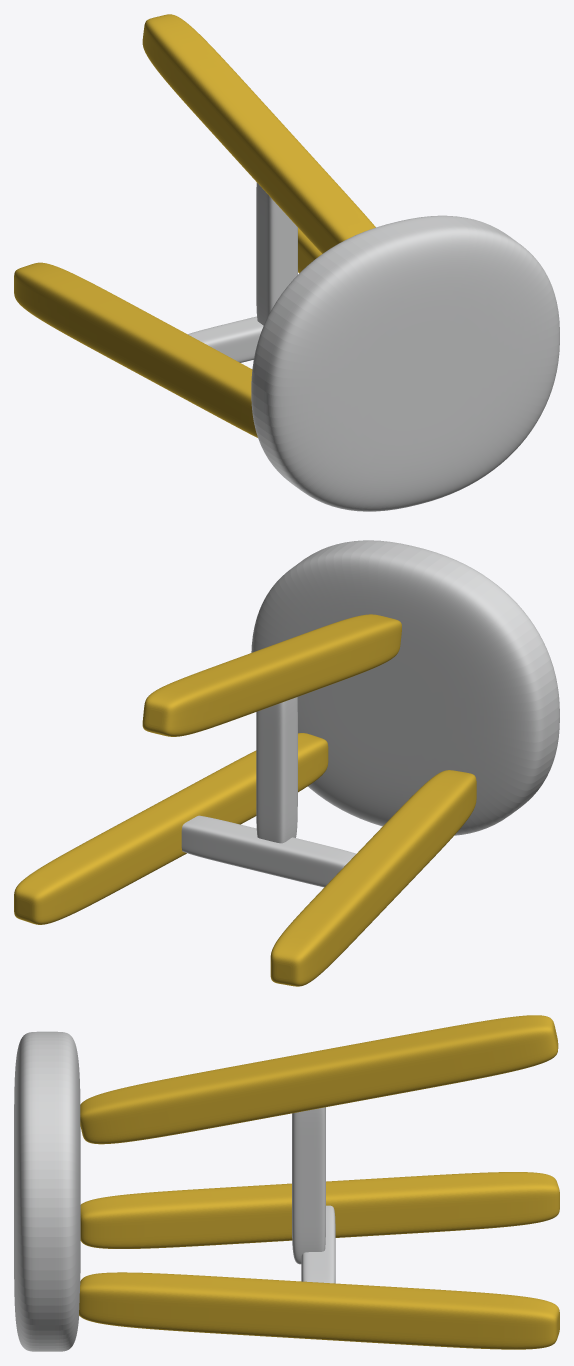
File: tripod_camping_stool_sq.glb
3 views of the same model, one above another, from view 1: azimuth 30°, elevation 25°; view 2: azimuth 150°, elevation 25°; view 3: azimuth 270°, elevation 25° (orthographic).
Parts seen in each view (by area): view 1: superquadric_0, superquadric_3, superquadric_1, superquadric_5, superquadric_4; view 2: superquadric_0, superquadric_2, superquadric_1, superquadric_3, superquadric_4, superquadric_5; view 3: superquadric_3, superquadric_2, superquadric_1, superquadric_0, superquadric_5, superquadric_4.
Boxes of the visible parts, x1,y1,x2,y2 form: superquadric_0: [251, 215, 559, 511]; superquadric_3: [142, 14, 375, 253]; superquadric_1: [14, 262, 257, 437]; superquadric_5: [256, 182, 297, 325]; superquadric_4: [188, 316, 263, 362]; superquadric_0: [251, 540, 559, 835]; superquadric_2: [14, 733, 328, 924]; superquadric_1: [270, 770, 476, 986]; superquadric_3: [142, 614, 401, 736]; superquadric_4: [181, 815, 356, 887]; superquadric_5: [256, 697, 297, 843]; superquadric_3: [80, 1015, 558, 1144]; superquadric_2: [79, 1272, 559, 1349]; superquadric_1: [80, 1172, 559, 1248]; superquadric_0: [14, 1031, 80, 1351]; superquadric_5: [292, 1107, 325, 1264]; superquadric_4: [301, 1205, 335, 1283].
Bounding box in the file's own units: 0.6272 × 0.624 × 1.
